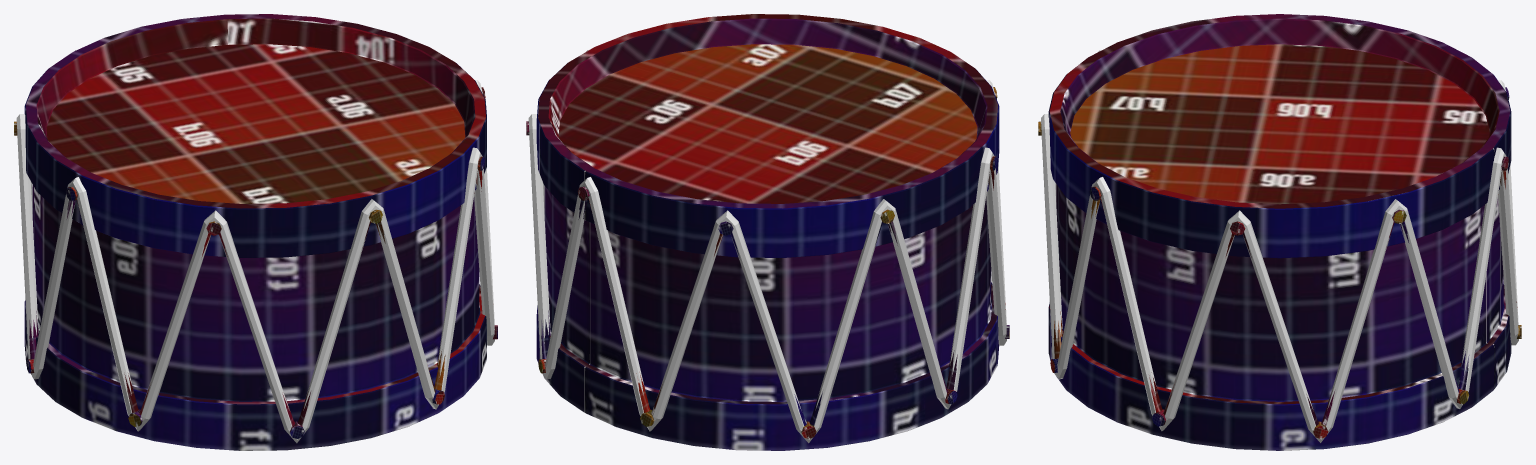
Rendered from DRUM_UNWRAPPED.fbx.
3 views of the same model, side by side, from view 1: azimuth 30°, elevation 25°; view 2: azimuth 150°, elevation 25°; view 3: azimuth 270°, elevation 25° (orthographic).
Visible parts, largest first — view 1: Cylinder, Cylinder.001, Cylinder.004, Cylinder.002, Cylinder.003; view 2: Cylinder, Cylinder.001, Cylinder.004, Cylinder.002, Cylinder.003; view 3: Cylinder, Cylinder.001, Cylinder.004, Cylinder.002, Cylinder.003.
Boxes of the visible parts, box(x1,y1,x2,y2) form: Cylinder: box(24, 14, 486, 450); Cylinder.001: box(16, 50, 494, 443); Cylinder.004: box(29, 170, 493, 426); Cylinder.002: box(26, 325, 497, 438); Cylinder.003: box(14, 87, 485, 235); Cylinder: box(536, 14, 999, 450); Cylinder.001: box(528, 50, 1006, 443); Cylinder.004: box(541, 170, 1005, 425); Cylinder.002: box(538, 325, 1009, 438); Cylinder.003: box(526, 87, 997, 235); Cylinder: box(1048, 14, 1511, 450); Cylinder.001: box(1041, 50, 1518, 442); Cylinder.004: box(1053, 170, 1517, 425); Cylinder.002: box(1050, 325, 1521, 438); Cylinder.003: box(1038, 87, 1509, 235).
Size of the model in its own units: 360 by 201 by 363.
